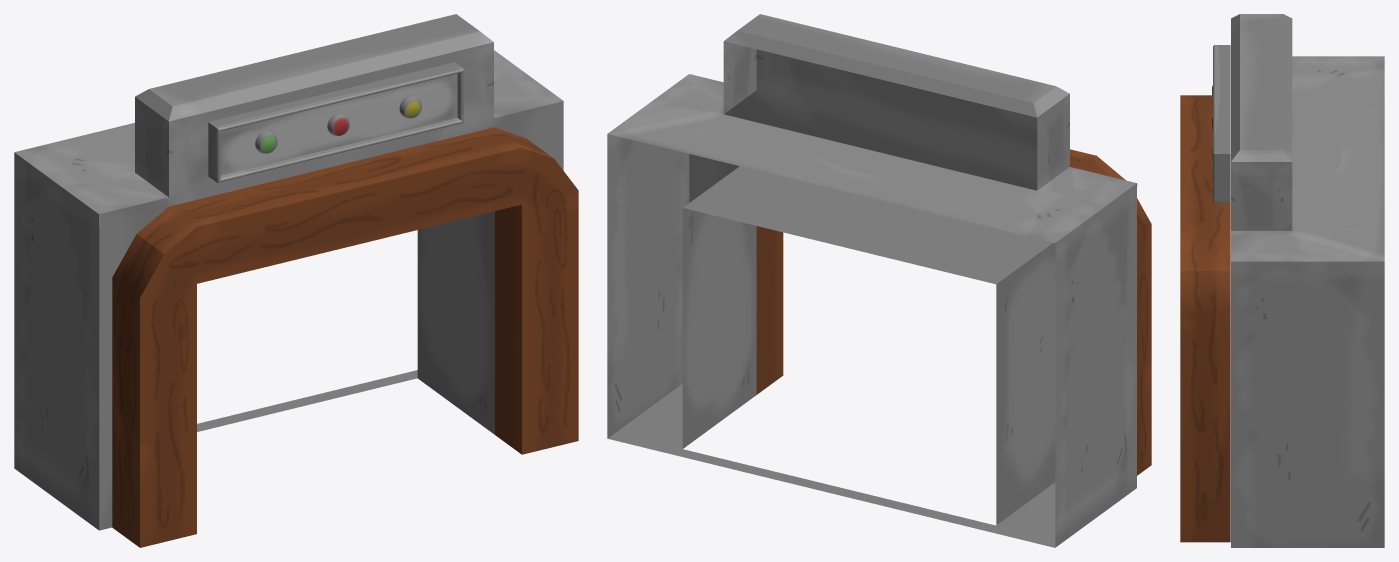
Rendered from elevador.fbx.
The picture shows the model from 3 angles, left to right: view 1: azimuth 30°, elevation 25°; view 2: azimuth 150°, elevation 25°; view 3: azimuth 270°, elevation 25°; orthographic projection. The views are drawn at different scales.
Visible parts, largest first — view 1: Cuerpo_elevador, Puerta_elevador, Borde_luces, Luces_elevador; view 2: Cuerpo_elevador, Puerta_elevador; view 3: Cuerpo_elevador, Puerta_elevador, Borde_luces.
Part boxes in pixels (x1=…): Cuerpo_elevador: x1=14, y1=14, x2=563, y2=530; Puerta_elevador: x1=112, y1=127, x2=578, y2=547; Borde_luces: x1=208, y1=62, x2=463, y2=182; Luces_elevador: x1=255, y1=95, x2=421, y2=153; Cuerpo_elevador: x1=607, y1=14, x2=1137, y2=547; Puerta_elevador: x1=756, y1=149, x2=1151, y2=475; Cuerpo_elevador: x1=1231, y1=14, x2=1384, y2=547; Puerta_elevador: x1=1180, y1=95, x2=1230, y2=542; Borde_luces: x1=1213, y1=45, x2=1230, y2=202.
Bounding box in the file's own units: 4506 × 3719 × 1897.
